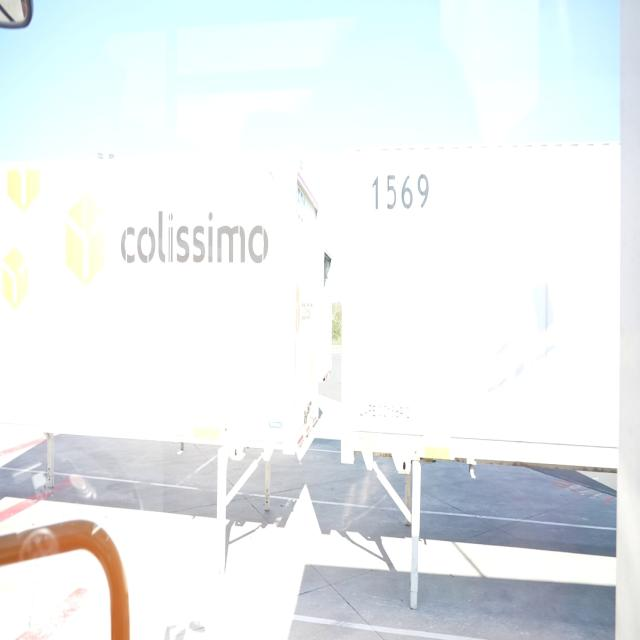Code: (367, 169, 432, 217)
